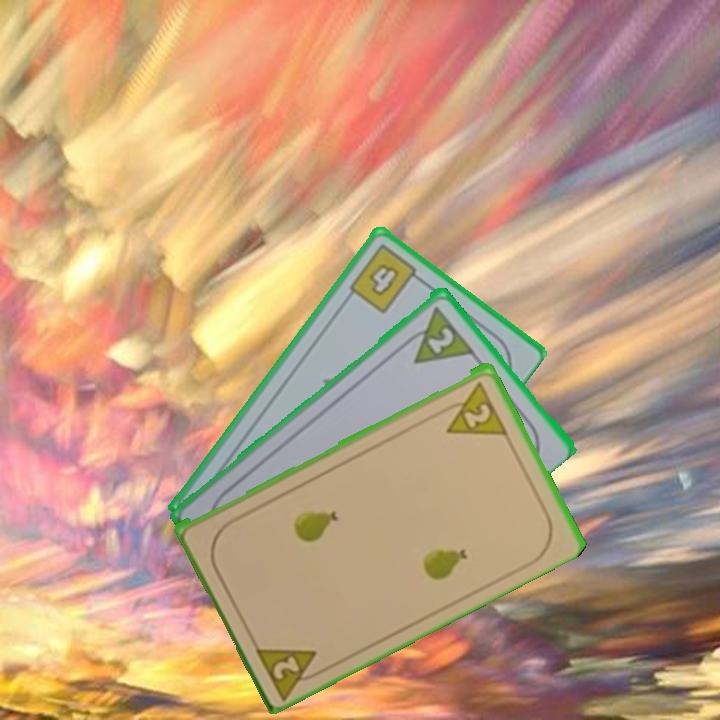2p: (250, 640, 330, 700), (435, 377, 510, 438), (424, 322, 457, 356)
4b: (345, 240, 426, 317)
